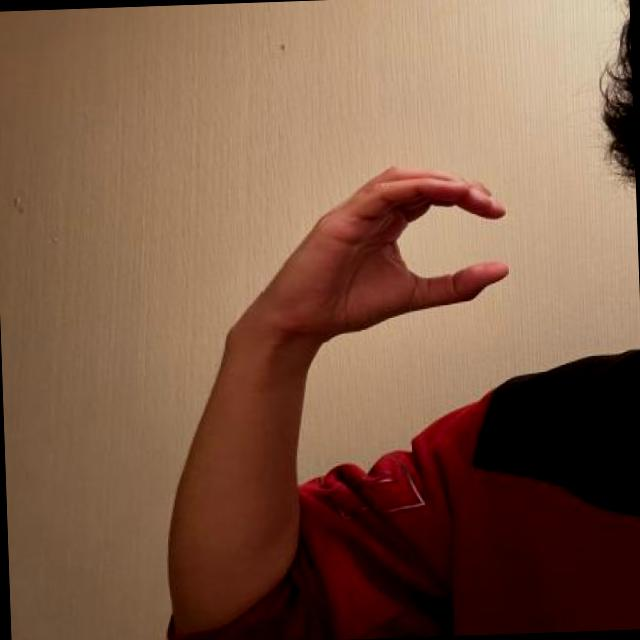C: (256, 154, 512, 344)
